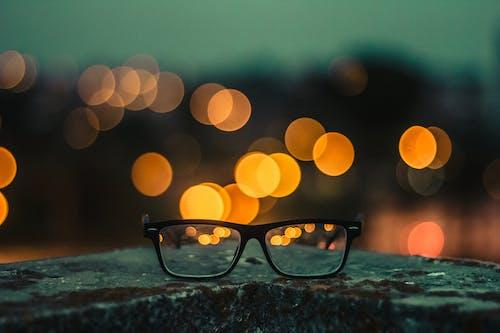eyeglasses: (125, 198, 378, 288)
